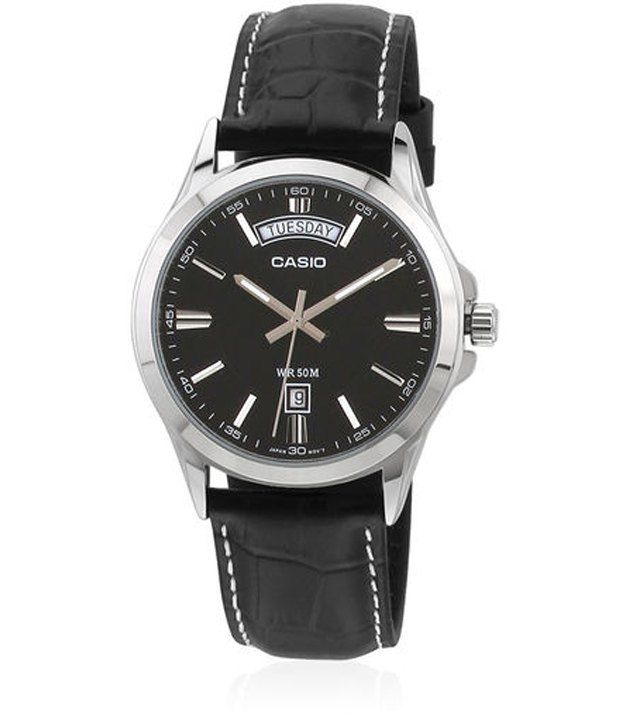clock: (127, 153, 471, 491)
